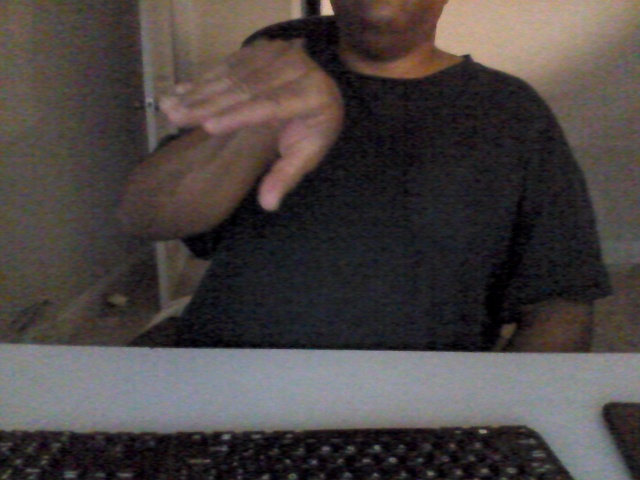no: (160, 40, 344, 212)
